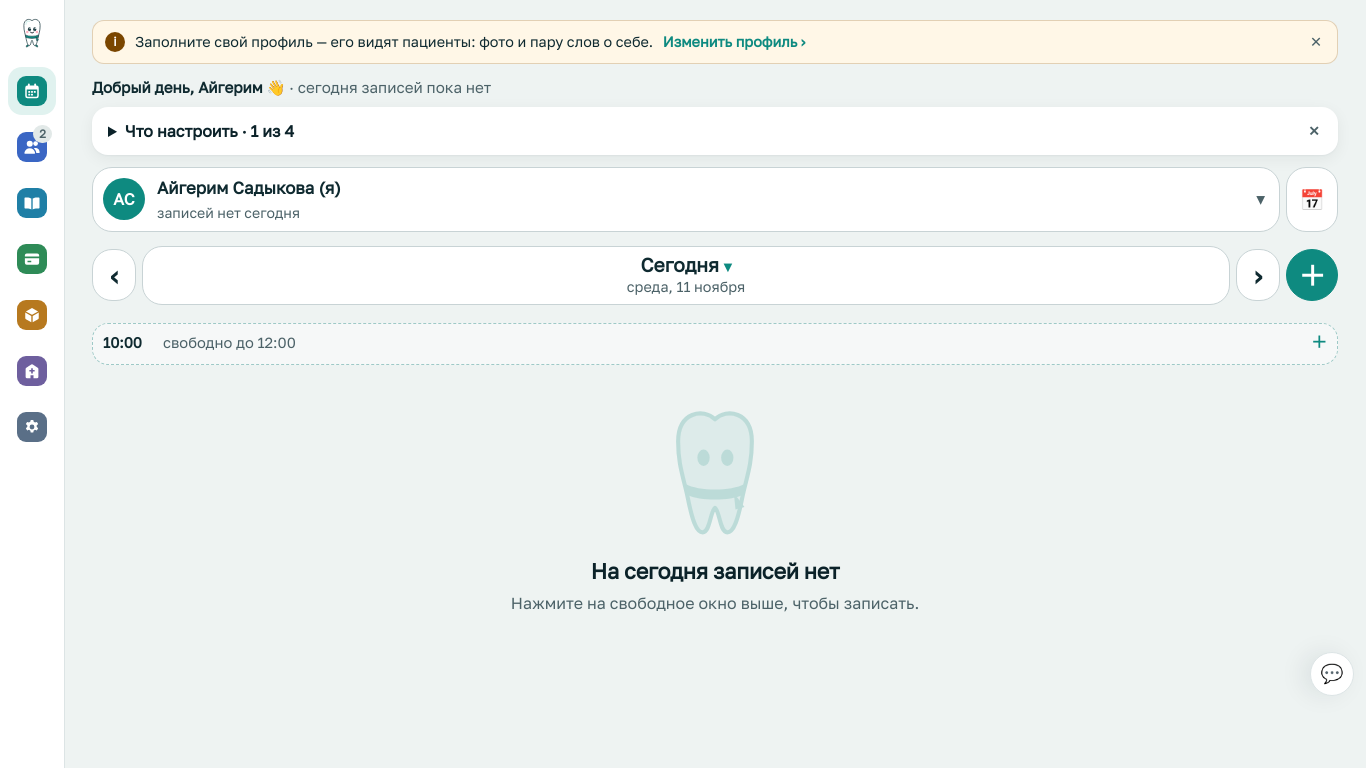
никто из листа не помещается — блока нет совсем
The image size is (1366, 768).
Click the button with aria-label "Свободно с 10:00 до 12:00, записать": [122, 342] box [93,324,1337,364]
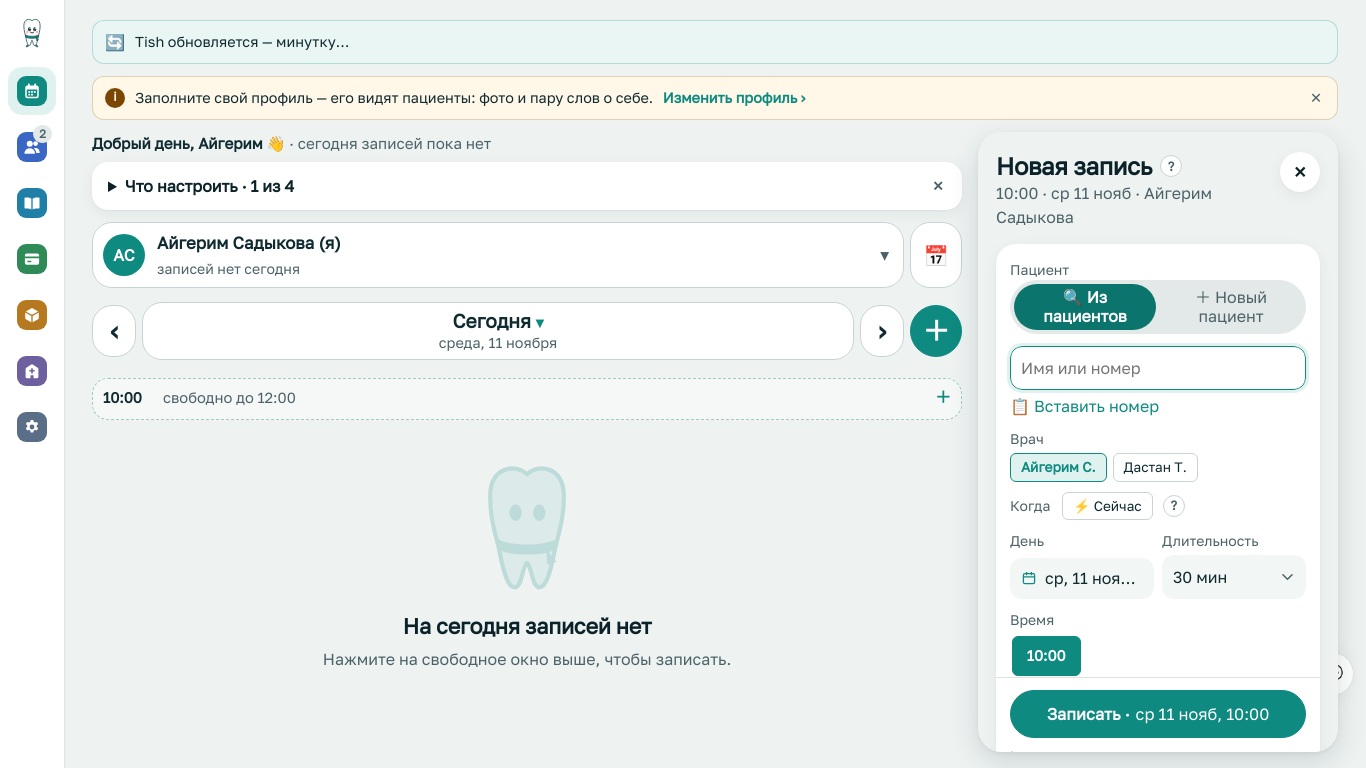
expect the element named "Свободное время" is shown: met, box [1012,636,1080,676]
